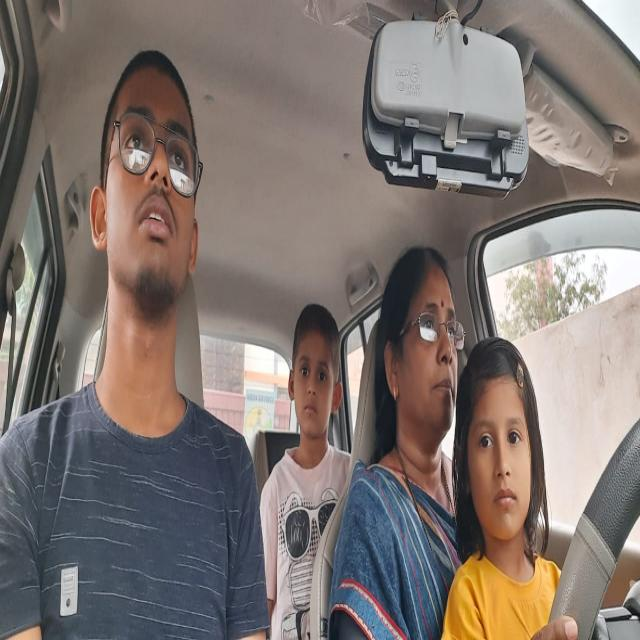child: (460, 341, 543, 569)
person: (91, 44, 203, 336), (379, 242, 462, 463), (287, 302, 347, 454)
